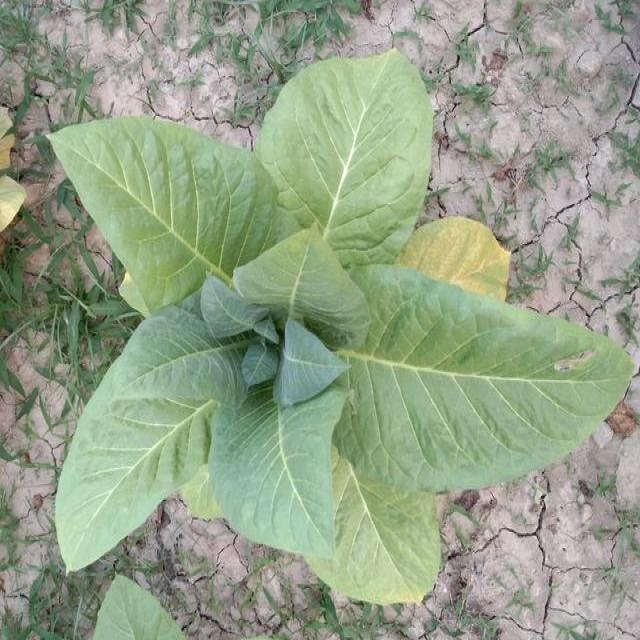crop: (51, 39, 634, 605)
